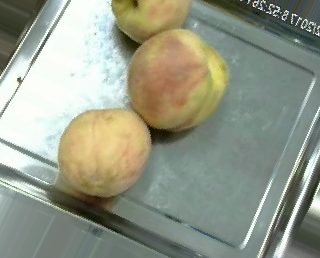Peach: (127, 27, 228, 132), (57, 106, 151, 196), (107, 0, 187, 44)
